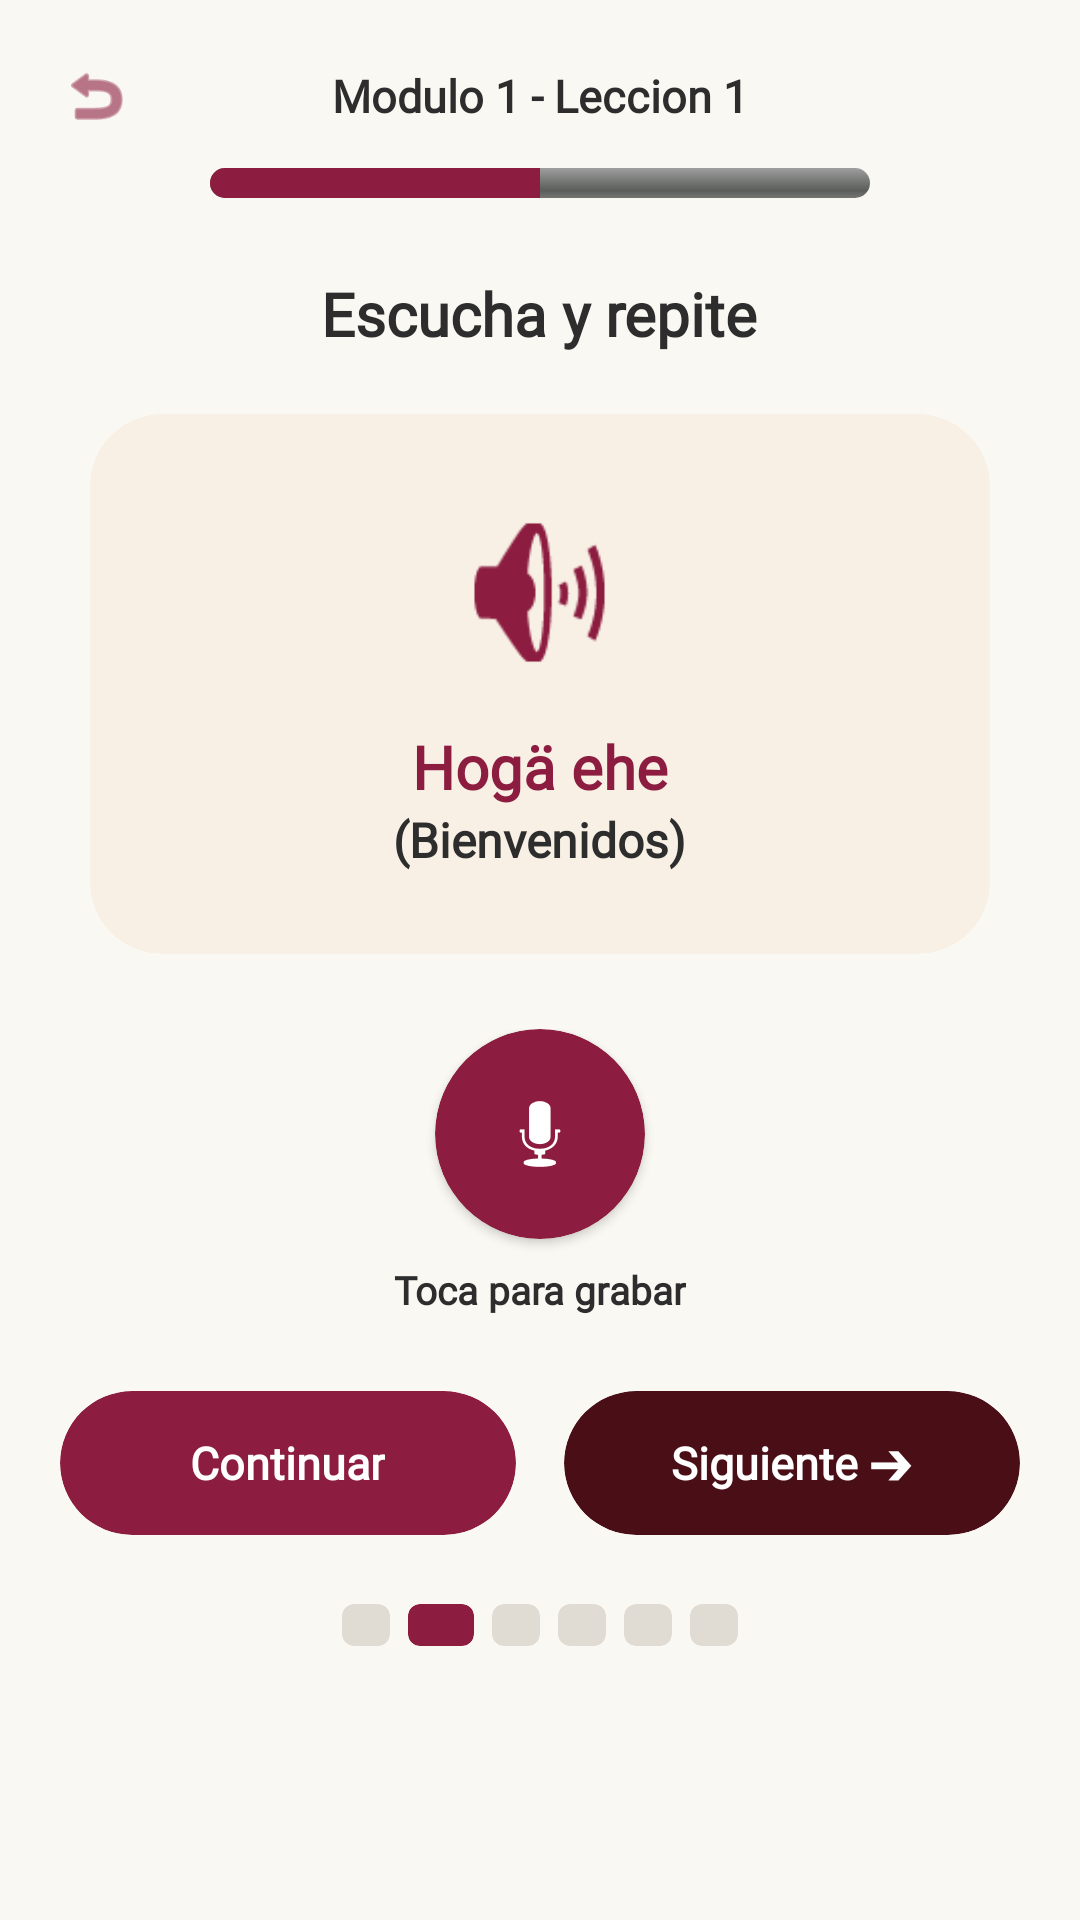

Named icons in this screenshot (1080×1920) and their centers, (x,y):
Escuchar palabra: (539,592)
Grabar voz: (540,1134)
Volver: (97,96)
